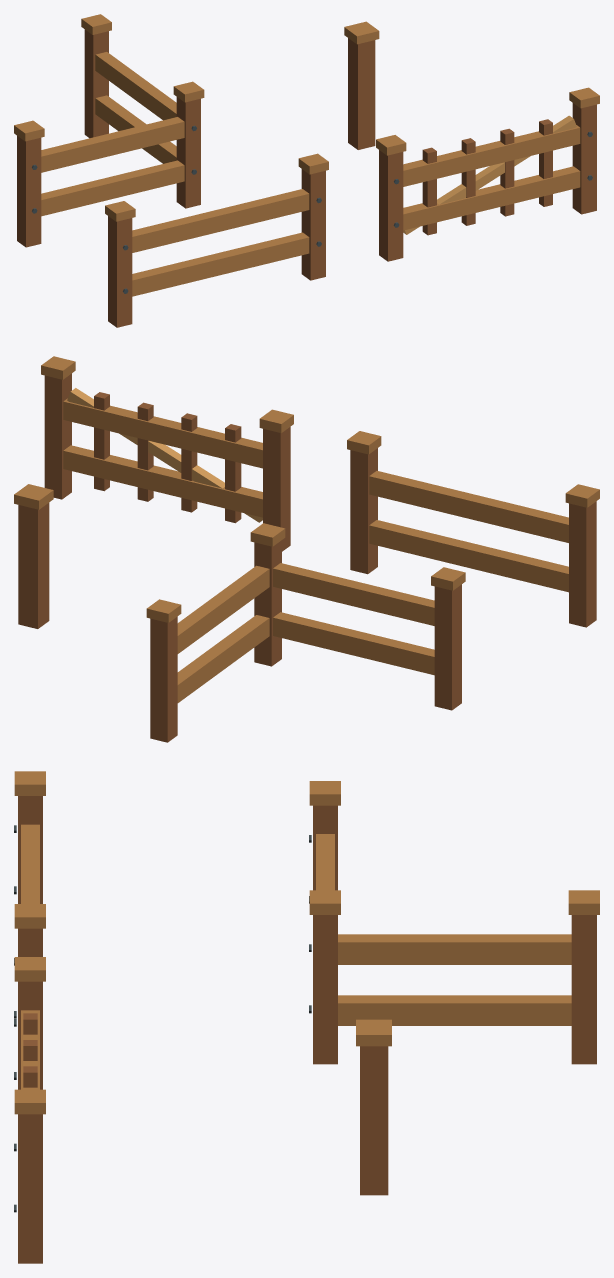
The model's file is fence_kit.glb.
The picture shows the model from 3 angles, top to bottom: view 1: azimuth 30°, elevation 25°; view 2: azimuth 150°, elevation 25°; view 3: azimuth 270°, elevation 25°; orthographic projection. The views are drawn at different scales.
Visible parts, largest first — view 1: fence_corner__wood2, fence_straight__wood2, fence_gate__wood2, fence_gate__wood, fence_corner__wood, fence_straight__wood, fence_post__wood, fence_gate__wood3, fence_post__wood2; view 2: fence_corner__wood2, fence_straight__wood2, fence_gate__wood2, fence_gate__wood, fence_corner__wood, fence_straight__wood, fence_post__wood, fence_gate__wood3, fence_post__wood2; view 3: fence_corner__wood2, fence_corner__wood, fence_gate__wood, fence_post__wood, fence_straight__wood2, fence_gate__wood2, fence_straight__wood, fence_post__wood2.
Boxes of the visible parts, x1=… form: fence_corner__wood2: x1=14, y1=14, x2=204, y2=216; fence_straight__wood2: x1=105, y1=153, x2=328, y2=296; fence_gate__wood2: x1=376, y1=87, x2=599, y2=230; fence_gate__wood: x1=379, y1=103, x2=596, y2=261; fence_corner__wood: x1=17, y1=29, x2=200, y2=247; fence_straight__wood: x1=108, y1=169, x2=325, y2=327; fence_post__wood: x1=348, y1=38, x2=375, y2=149; fence_gate__wood3: x1=403, y1=115, x2=576, y2=234; fence_post__wood2: x1=344, y1=21, x2=379, y2=44; fence_corner__wood2: x1=146, y1=523, x2=465, y2=702; fence_straight__wood2: x1=347, y1=431, x2=599, y2=592; fence_gate__wood2: x1=41, y1=356, x2=293, y2=517; fence_gate__wood: x1=44, y1=373, x2=290, y2=551; fence_corner__wood: x1=150, y1=540, x2=461, y2=742; fence_straight__wood: x1=350, y1=448, x2=596, y2=627; fence_post__wood: x1=18, y1=503, x2=49, y2=628; fence_gate__wood3: x1=67, y1=388, x2=262, y2=522; fence_post__wood2: x1=14, y1=484, x2=53, y2=509; fence_corner__wood2: x1=309, y1=781, x2=599, y2=1025; fence_corner__wood: x1=313, y1=805, x2=596, y2=1064; fence_gate__wood: x1=18, y1=981, x2=42, y2=1263; fence_post__wood: x1=360, y1=1046, x2=388, y2=1195; fence_straight__wood2: x1=14, y1=771, x2=45, y2=928; fence_gate__wood2: x1=14, y1=957, x2=45, y2=1114; fence_straight__wood: x1=18, y1=796, x2=42, y2=956; fence_post__wood2: x1=356, y1=1019, x2=391, y2=1046.
Bounding box in the file's own units: 5 × 1.14 × 3.73.
